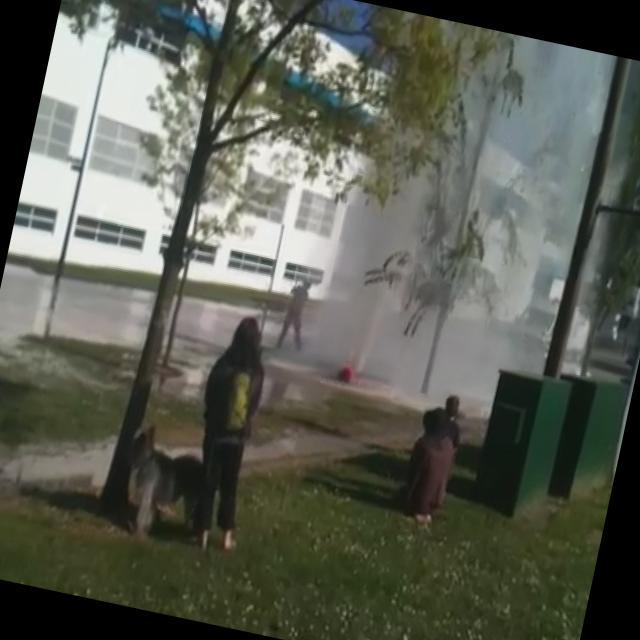Vehicle: (498, 289, 594, 376)
